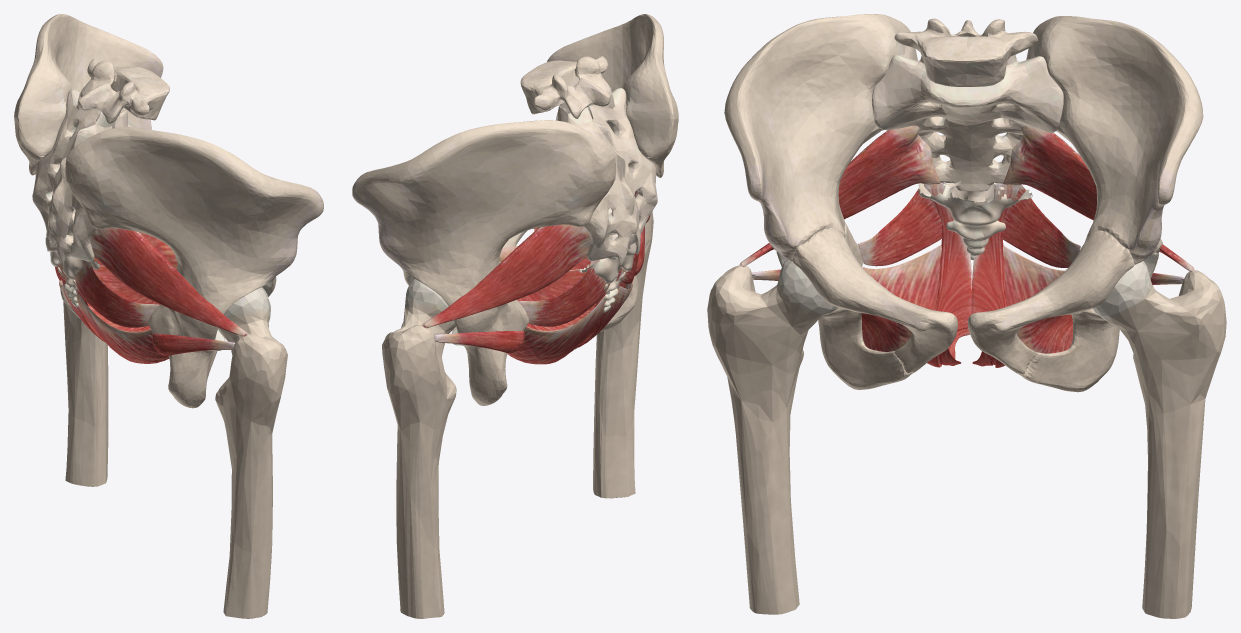
The model's file is pelvicTest.gltf.
The picture shows the model from 3 angles, left to right: view 1: azimuth 30°, elevation 25°; view 2: azimuth 150°, elevation 25°; view 3: azimuth 270°, elevation 25°; orthographic projection. The views are drawn at different scales.
Visible parts, largest first — view 1: Ilium_R, Femur_R, Ilium_L, Femur_L, Sacrum, piriformis_R, Vertebra, Ischium_R, ischiococcygeus_R, iliococcygeus_R, iliococcygeus_L, internus_R (+2 smaller); view 2: Ilium_L, Femur_L, Ilium_R, Femur_R, Sacrum, piriformis_L, Vertebra, Ischium_L, ischiococcygeus_L, iliococcygeus_L, iliococcygeus_R, internus_L (+3 smaller); view 3: Ilium_R, Ilium_L, Femur_L, Femur_R, Sacrum, Pubis_L, Pubis_R, Vertebra, piriformis_R, piriformis_L, Ischium_L, Ischium_R (+9 smaller).
Boxes of the visible parts, <box> form: Ilium_R: <box>65,127,323,314</box>; Femur_R: <box>215,287,287,618</box>; Ilium_L: <box>14,14,163,175</box>; Femur_L: <box>63,301,108,486</box>; Sacrum: <box>32,88,137,262</box>; piriformis_R: <box>90,228,248,336</box>; Vertebra: <box>78,59,169,123</box>; Ischium_R: <box>148,304,225,408</box>; ischiococcygeus_R: <box>74,260,158,327</box>; iliococcygeus_R: <box>77,294,169,363</box>; iliococcygeus_L: <box>59,265,156,341</box>; internus_R: <box>152,333,234,355</box>; Ilium_L: <box>352,120,615,306</box>; Femur_L: <box>382,279,456,618</box>; Ilium_R: <box>547,14,678,177</box>; Femur_R: <box>593,211,653,498</box>; Sacrum: <box>556,88,657,264</box>; piriformis_L: <box>421,224,591,328</box>; Vertebra: <box>520,56,611,118</box>; Ischium_L: <box>452,299,528,405</box>; ischiococcygeus_L: <box>518,259,610,326</box>; iliococcygeus_L: <box>507,296,605,364</box>; iliococcygeus_R: <box>529,269,632,347</box>; internus_L: <box>434,330,524,353</box>; Ilium_R: <box>724,14,917,260</box>; Ilium_L: <box>1026,16,1203,264</box>; Femur_L: <box>1093,261,1226,618</box>; Femur_R: <box>707,259,838,614</box>; Sacrum: <box>872,54,1063,191</box>; Pubis_L: <box>968,230,1134,374</box>; Pubis_R: <box>792,227,957,372</box>; Vertebra: <box>894,18,1037,86</box>; piriformis_R: <box>739,125,940,266</box>; piriformis_L: <box>1003,126,1194,272</box>; Ischium_L: <box>1015,240,1158,392</box>; Ischium_R: <box>776,222,916,389</box>.
Size of the model in its own units: 141 by 321 by 269.
23 materials, 23 textured.
